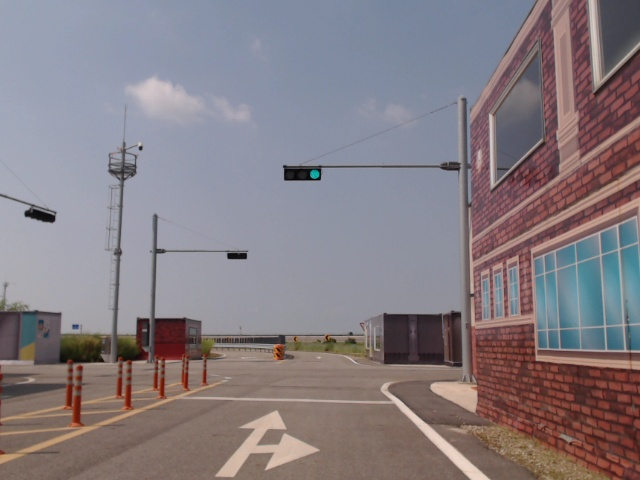green_3: (284, 168, 322, 181)
